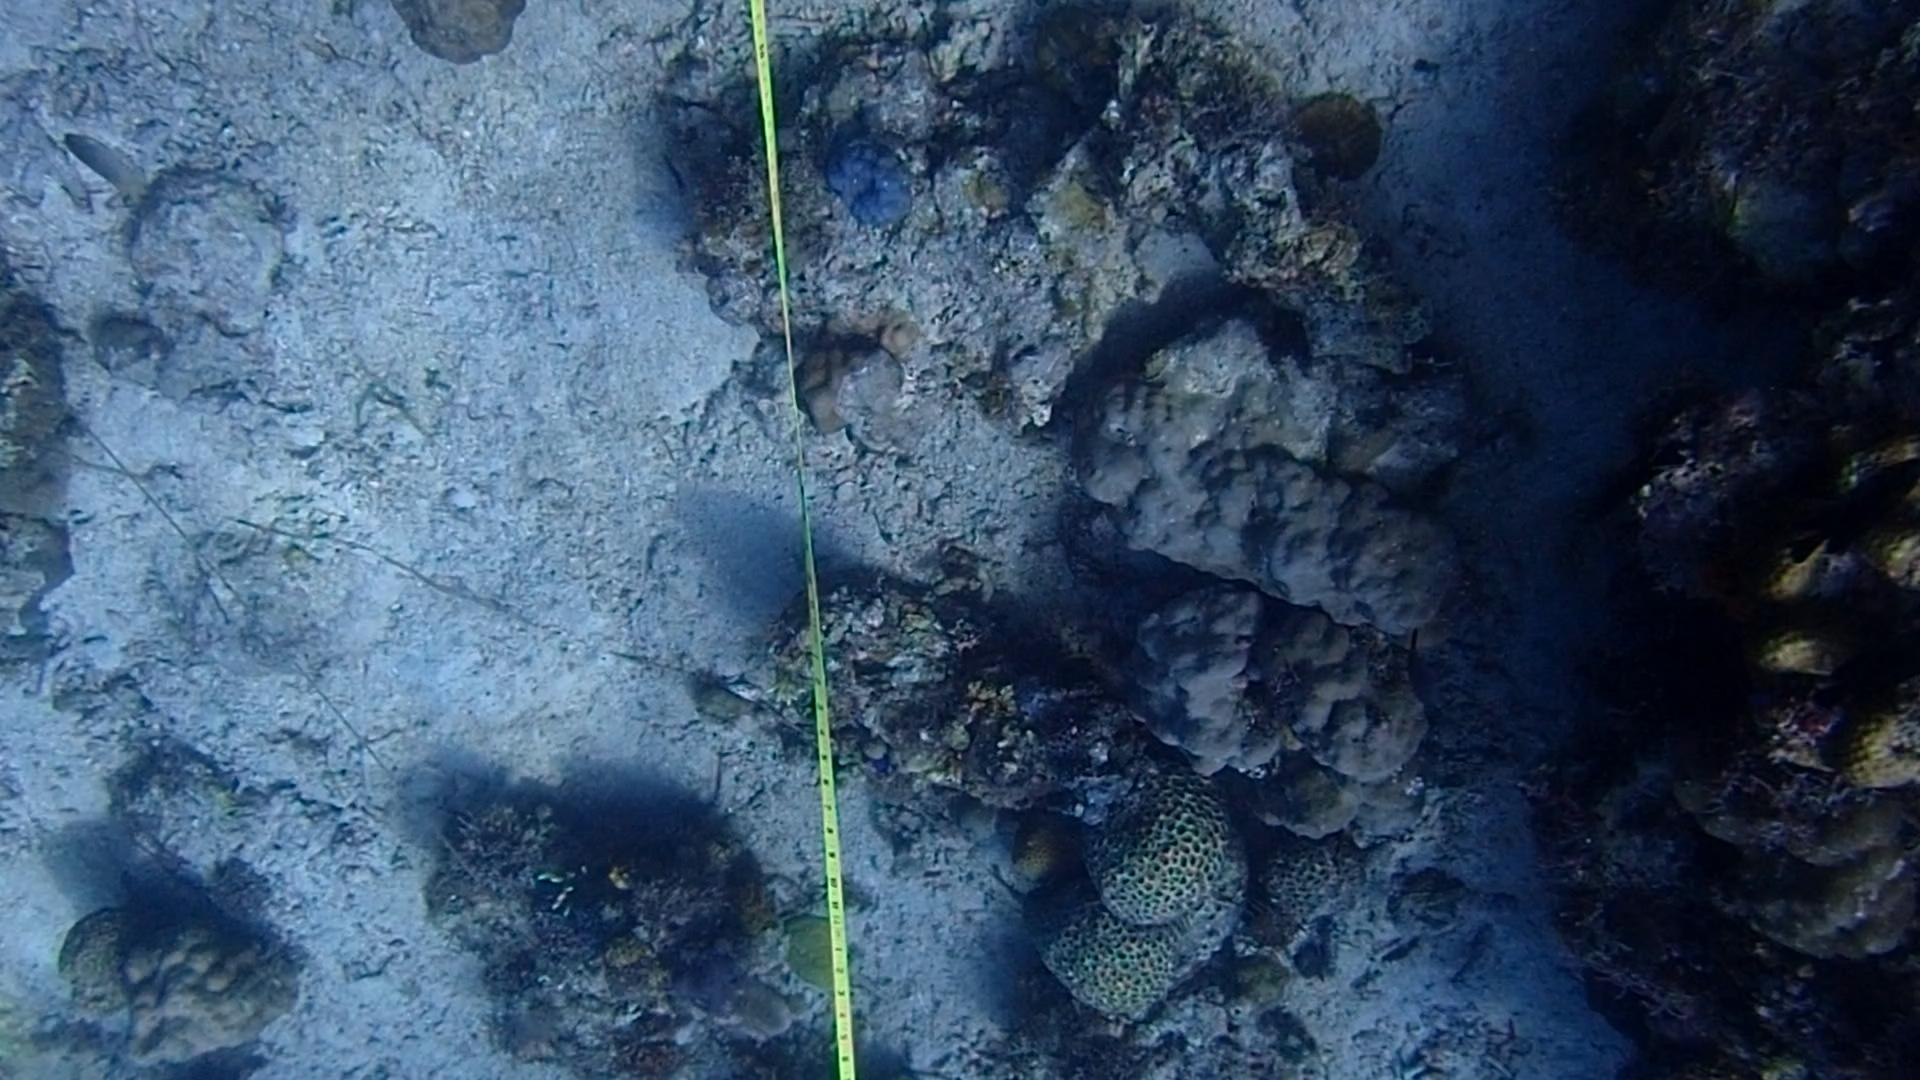Dark Fish: (1791, 444, 1915, 564), (1822, 605, 1920, 703), (1387, 612, 1440, 717)
Light Fish: (62, 112, 162, 207)
